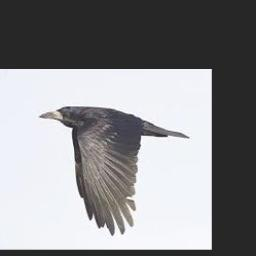Crow: (38, 106, 189, 234)
